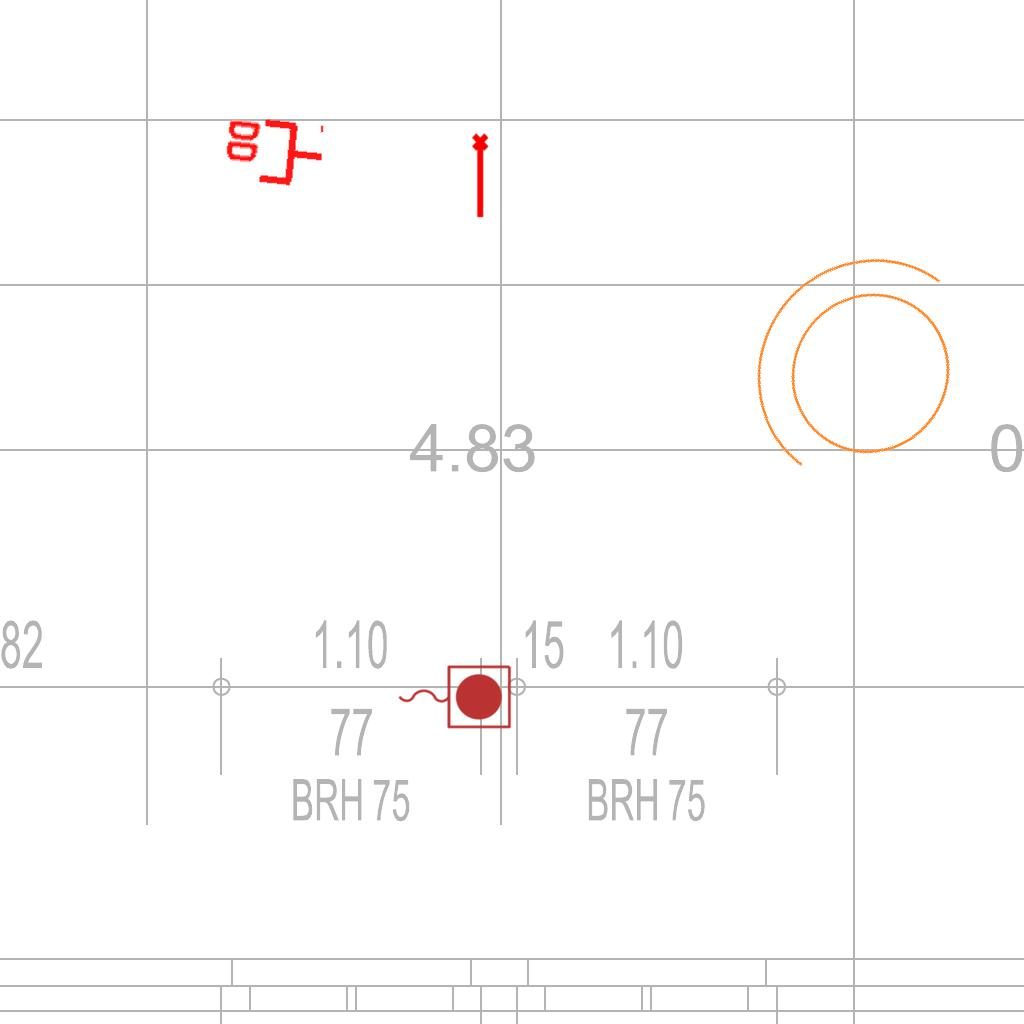ASR_Ansaugoeffnung: (470, 132, 493, 220)
Datenanschluss_zweifach: (218, 113, 329, 194)
Scheinwerfer_fuer_Alarmbeleuchtung: (689, 199, 1024, 546)
Zugtaster: (393, 660, 515, 732)
